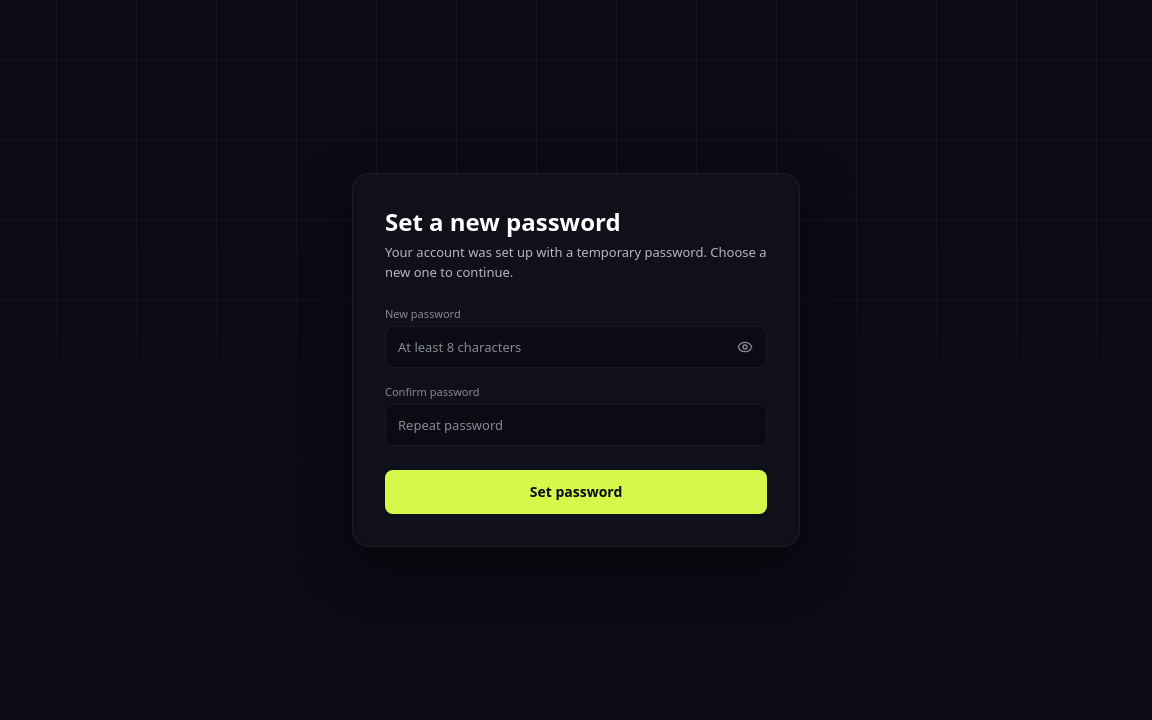
Test: ForcePasswordChangePage › shows error when passwords do not match
Type "supersecret1" into the password field labelled "New password". click: (576, 347)
box: [385,326,767,368]
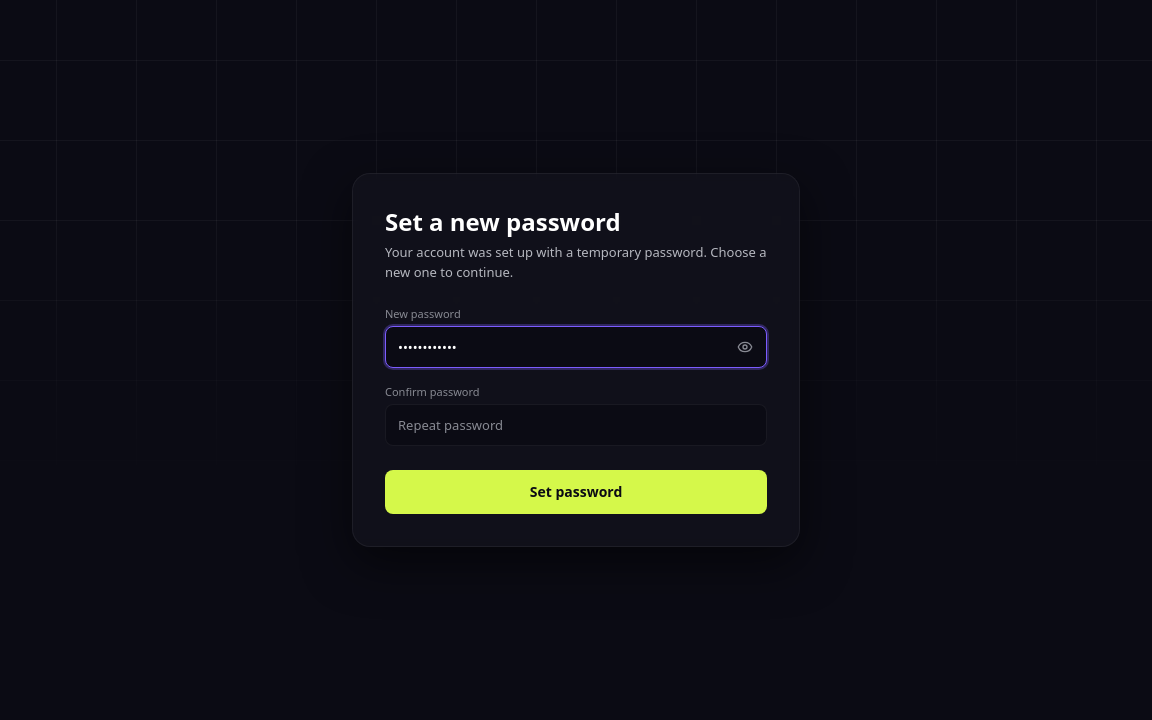
Type "different12" into the password field labelled "Confirm password". click: (576, 425)
box: [385,404,767,446]
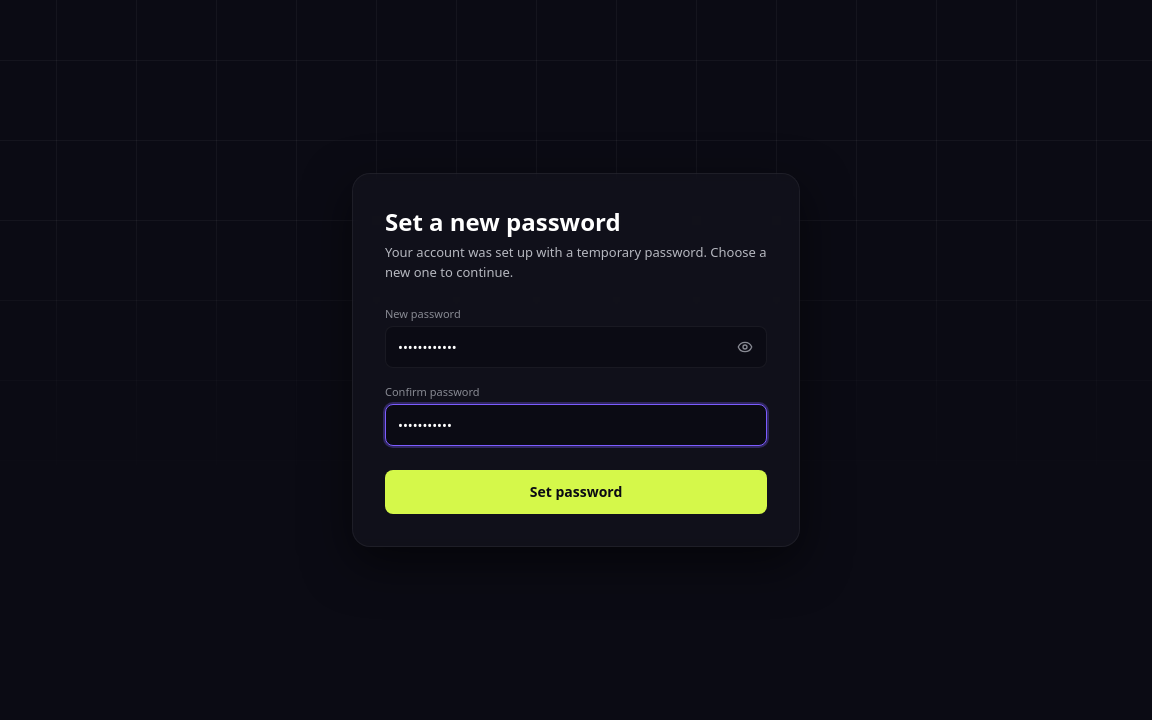
Click the button "Set password". click: (576, 492)
box: [385,470,767,514]
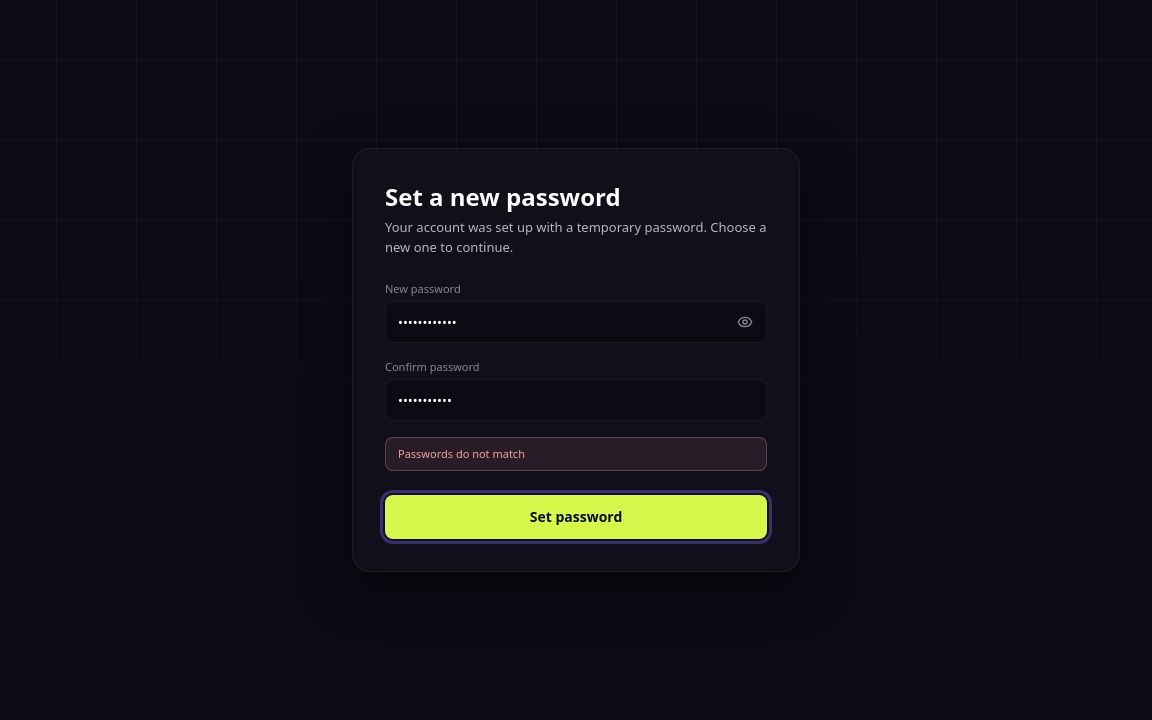
Check: the message shows "do not match", box [398,446,525,461]
